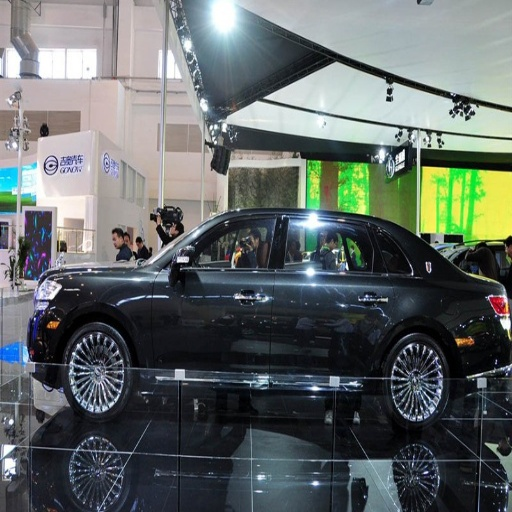back_bumper: (457, 321, 507, 378)
back_glass: (245, 26, 325, 83)
back_left_door: (270, 214, 406, 409)
trunk: (137, 426, 305, 509)
